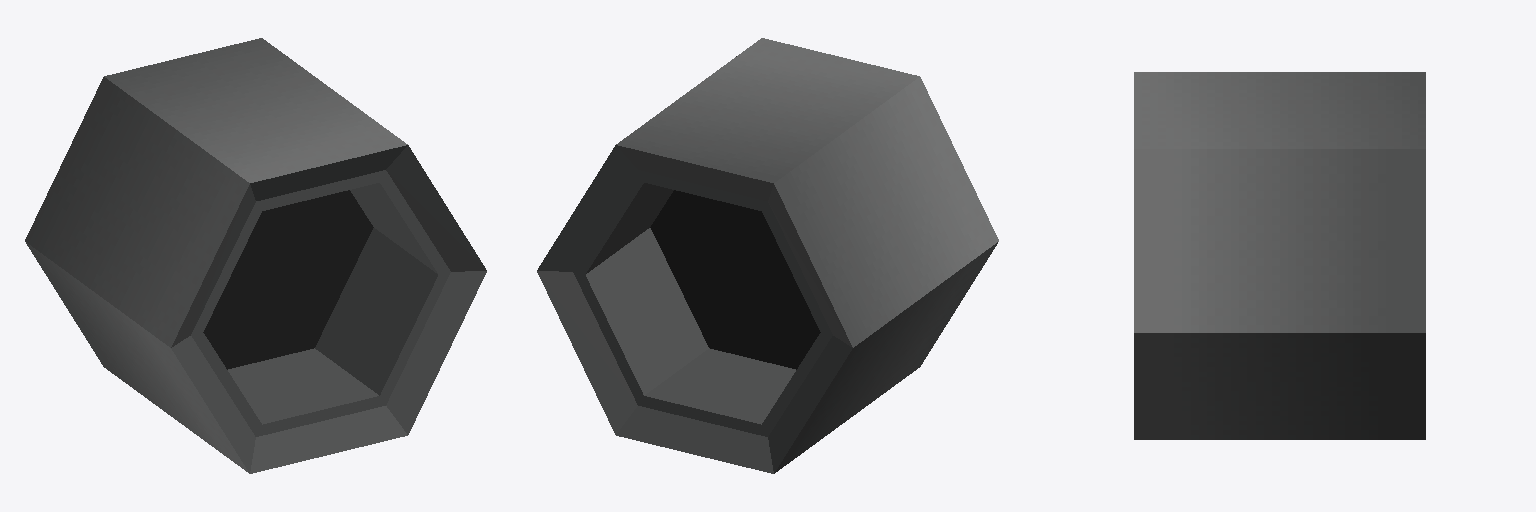
The picture shows the model from 3 angles: view 1: azimuth 30°, elevation 25°; view 2: azimuth 150°, elevation 25°; view 3: azimuth 270°, elevation 25°; orthographic projection.
Parts seen in each view (by area): view 1: tube, plane; view 2: tube, plane; view 3: tube.
Boxes of the visible parts, x1=… form: tube: x1=25, y1=38, x2=486, y2=473; plane: x1=203, y1=190, x2=373, y2=369; tube: x1=537, y1=38, x2=998, y2=473; plane: x1=650, y1=190, x2=820, y2=369; tube: x1=1134, y1=72, x2=1425, y2=439.
Bounding box in the file's own units: 1.4 × 1.23 × 1.12.
Materials: 1 (1 with a texture image).